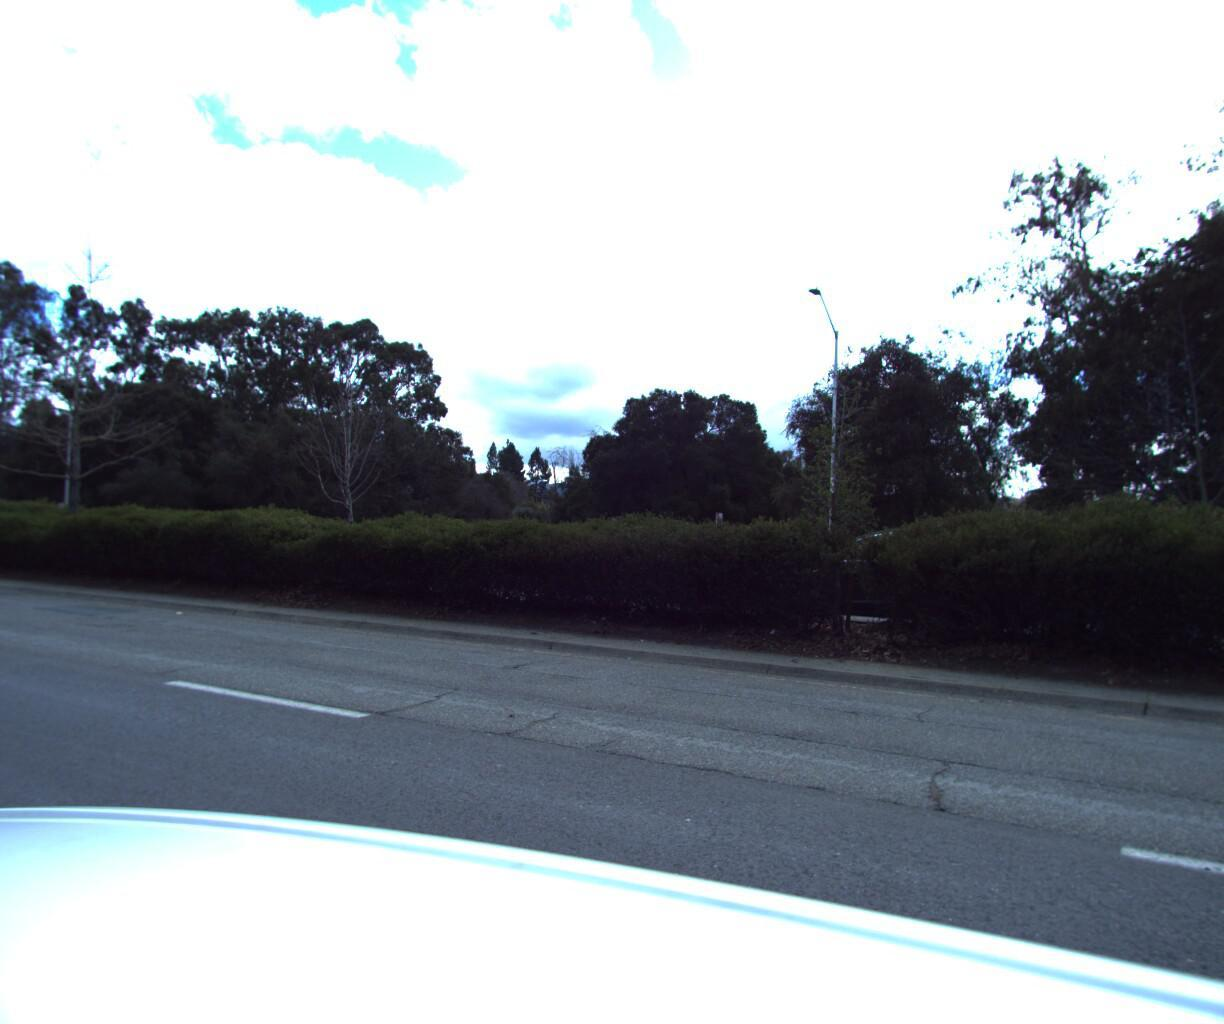car: (709, 554, 990, 661)
